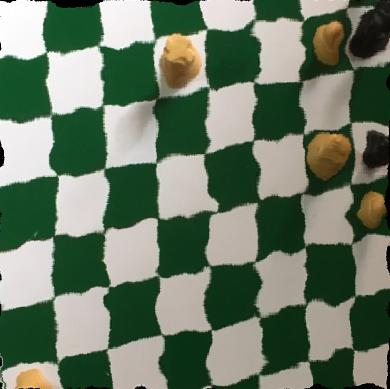black-king: (349, 0, 390, 62)
black-pawn: (357, 122, 390, 178)
white-king: (305, 122, 350, 184)
white-pawn: (306, 13, 351, 73), (354, 185, 390, 237), (5, 366, 54, 389)
white-queen: (348, 0, 390, 3)
white-rook: (159, 27, 205, 92)
